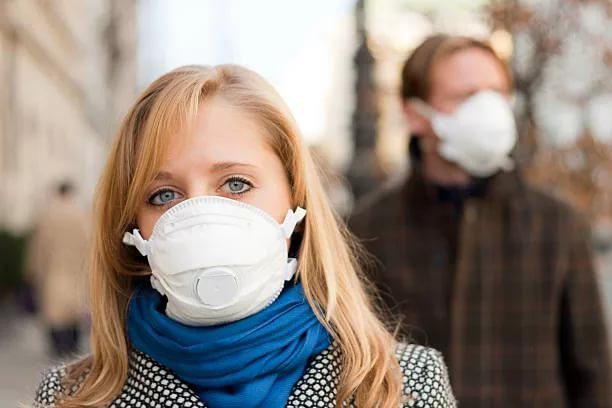mask: (131, 124, 293, 314), (408, 49, 523, 179)
